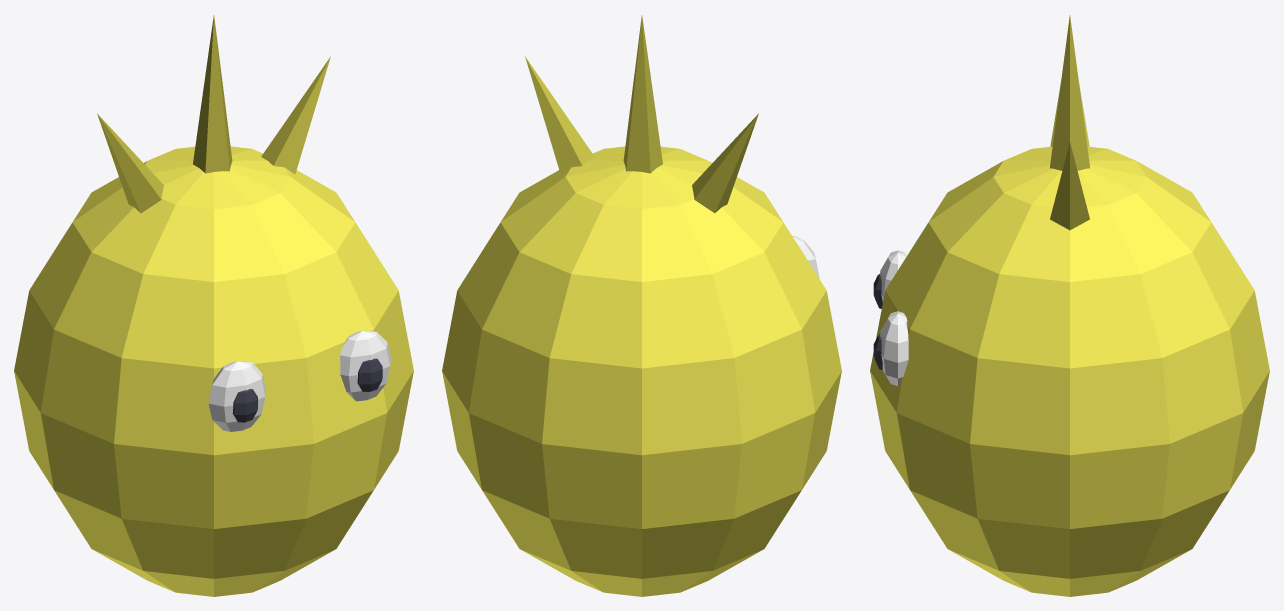
The model's file is liquidatron.glb.
3 renders of one model, left to right at view 1: azimuth 30°, elevation 25°; view 2: azimuth 150°, elevation 25°; view 3: azimuth 270°, elevation 25°, orthographic.
Parts seen in each view (by area): view 1: liquidatron; view 2: liquidatron; view 3: liquidatron.
Boxes of the visible parts, box(x1,y1,x2,y2) form: liquidatron: box(14, 15, 413, 596); liquidatron: box(442, 15, 841, 596); liquidatron: box(870, 15, 1269, 596).
Size of the model in its own units: 1.24 by 1.93 by 1.24.
